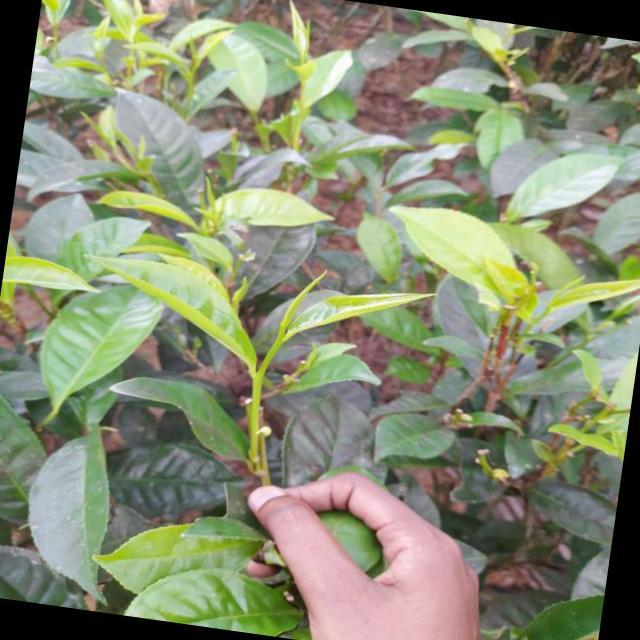Stem: (252, 374, 262, 389)
